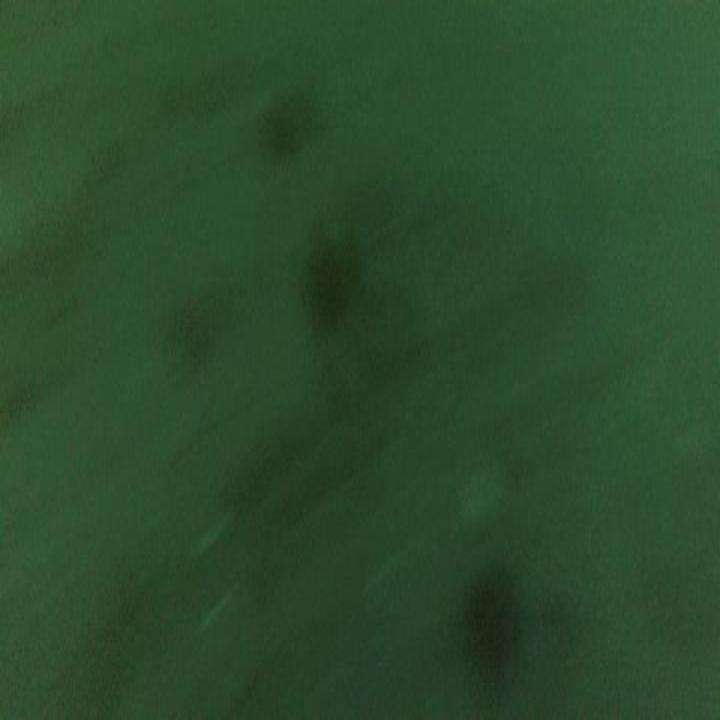echinus: (468, 548, 526, 682), (301, 235, 349, 341), (253, 84, 303, 182)
